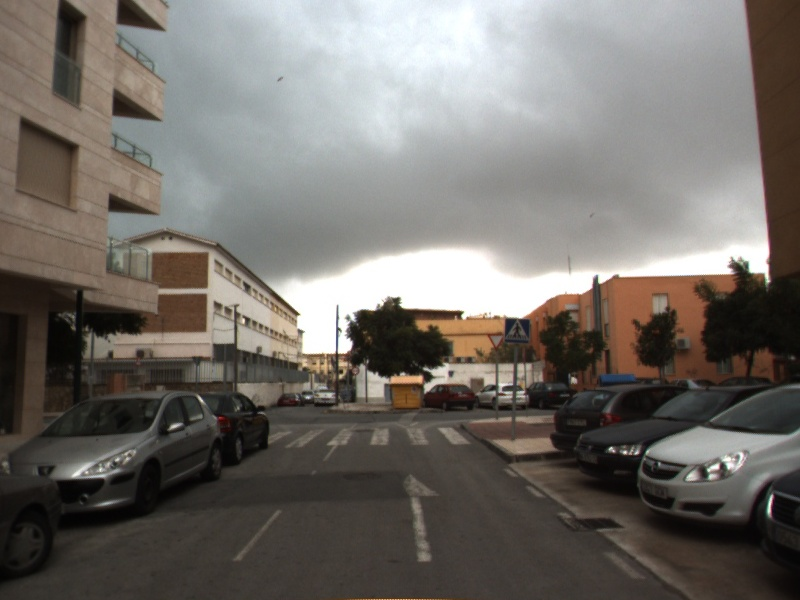STRAIGHT: (404, 472, 444, 564)
